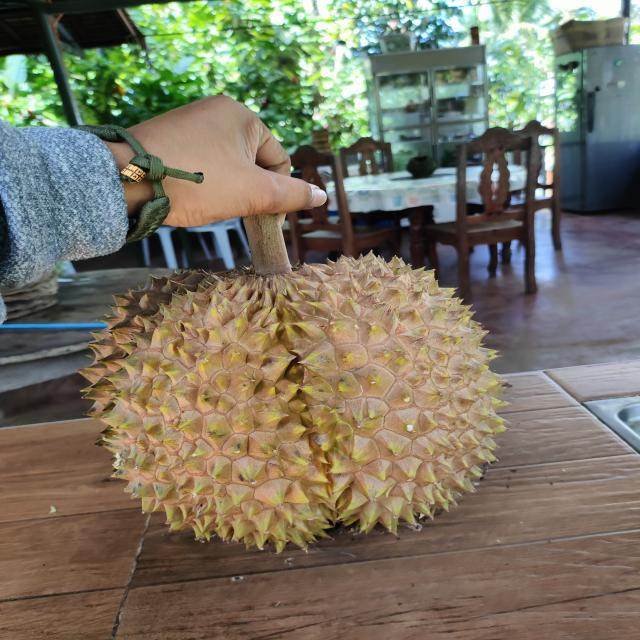mature: (74, 246, 512, 554)
